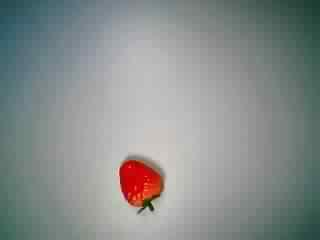strawberry: (108, 154, 174, 220)
